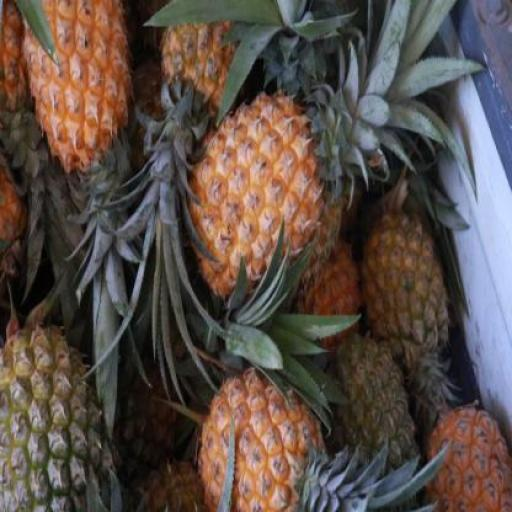------------------------------: (0, 324, 112, 512), (357, 205, 445, 377)
Pineapple - v8 v1: (182, 96, 332, 306), (21, 0, 132, 167), (197, 358, 317, 512), (428, 400, 512, 512)
